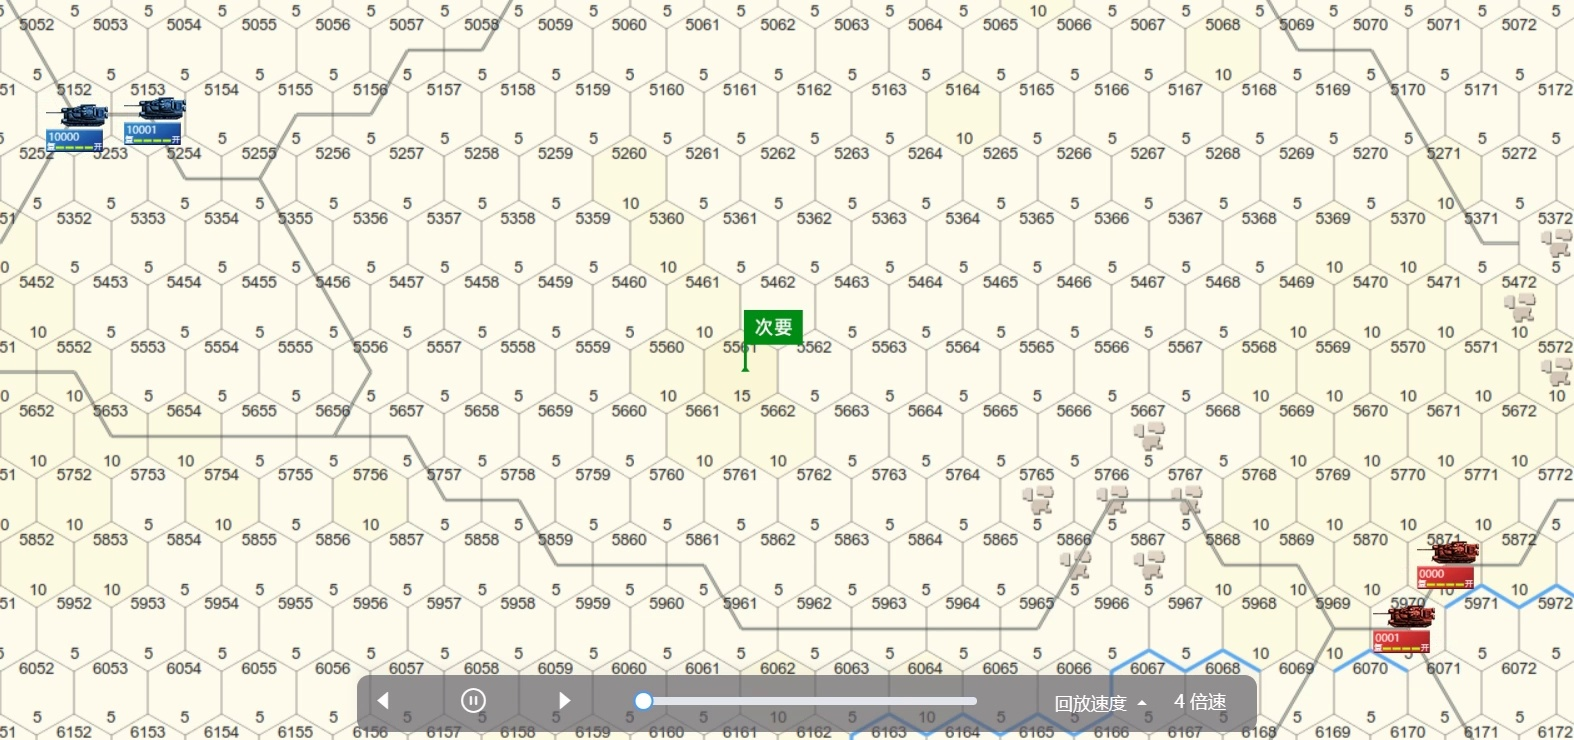blue_tank: (40, 100, 108, 153), (123, 97, 187, 152)
red_tank: (1370, 605, 1441, 665), (1412, 544, 1480, 596)
